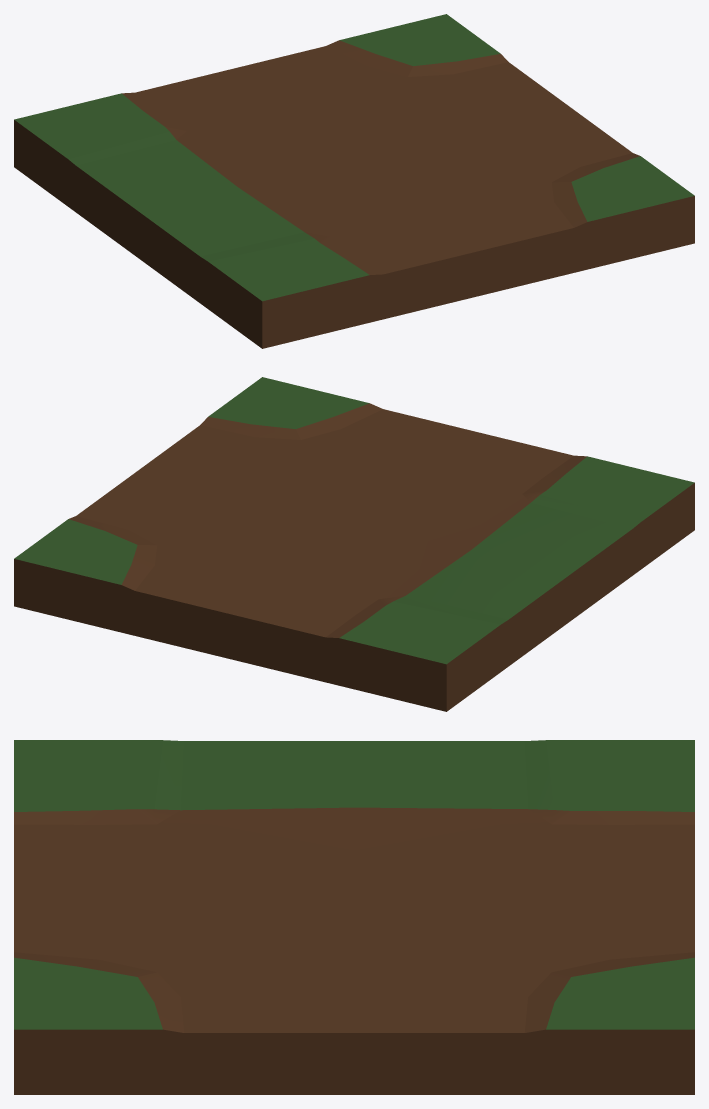
Rendered from Dirt T Section.fbx.
3 views of the same model, one above another, from view 1: azimuth 30°, elevation 25°; view 2: azimuth 150°, elevation 25°; view 3: azimuth 270°, elevation 25° (orthographic). The views are drawn at different scales.
Visible parts, largest first — view 1: DirtT; view 2: DirtT; view 3: DirtT.
Part boxes in pixels (x1=…): DirtT: x1=14, y1=14, x2=694, y2=348; DirtT: x1=14, y1=377, x2=694, y2=711; DirtT: x1=14, y1=740, x2=694, y2=1094.
Bounding box in the file's own units: 10.06 × 1.06 × 10.
